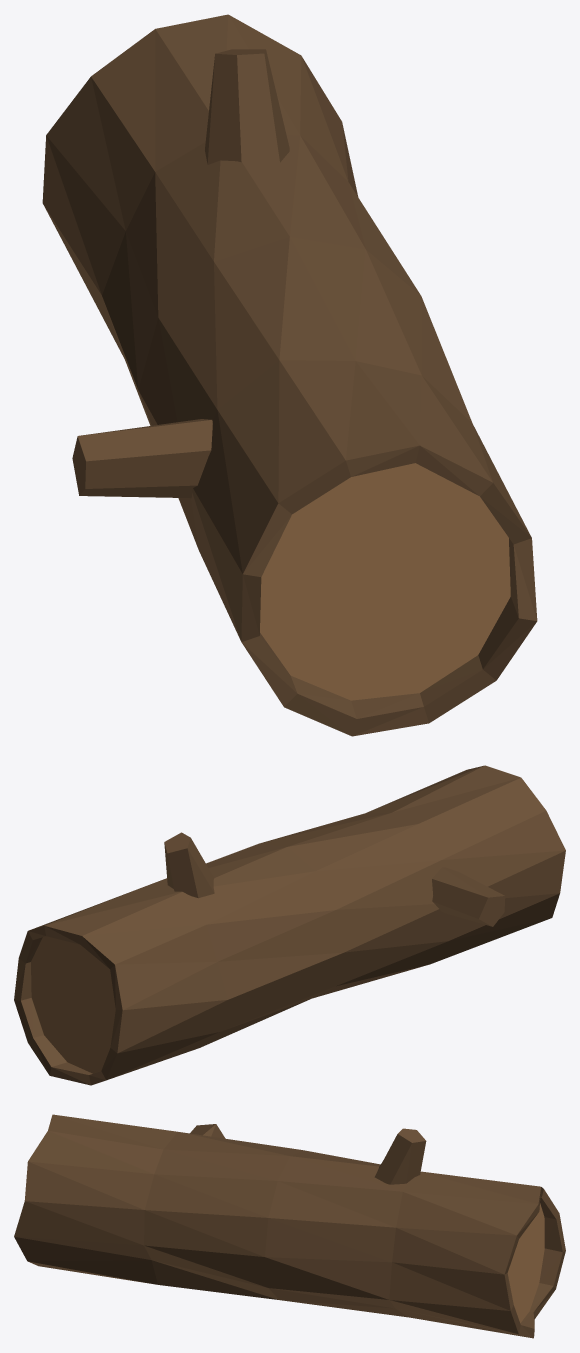
Rendered from log_2.glb.
3 views of the same model, one above another, from view 1: azimuth 30°, elevation 25°; view 2: azimuth 150°, elevation 25°; view 3: azimuth 270°, elevation 25° (orthographic). The views are drawn at different scales.
Parts seen in each view (by area): view 1: Cylinder.002; view 2: Cylinder.002; view 3: Cylinder.002.
Boxes of the visible parts, box(x1,y1,x2,y2) form: Cylinder.002: box(42, 14, 537, 736); Cylinder.002: box(14, 765, 565, 1085); Cylinder.002: box(14, 1114, 565, 1338).
Size of the model in its own units: 1.32 by 0.814 by 2.24.
